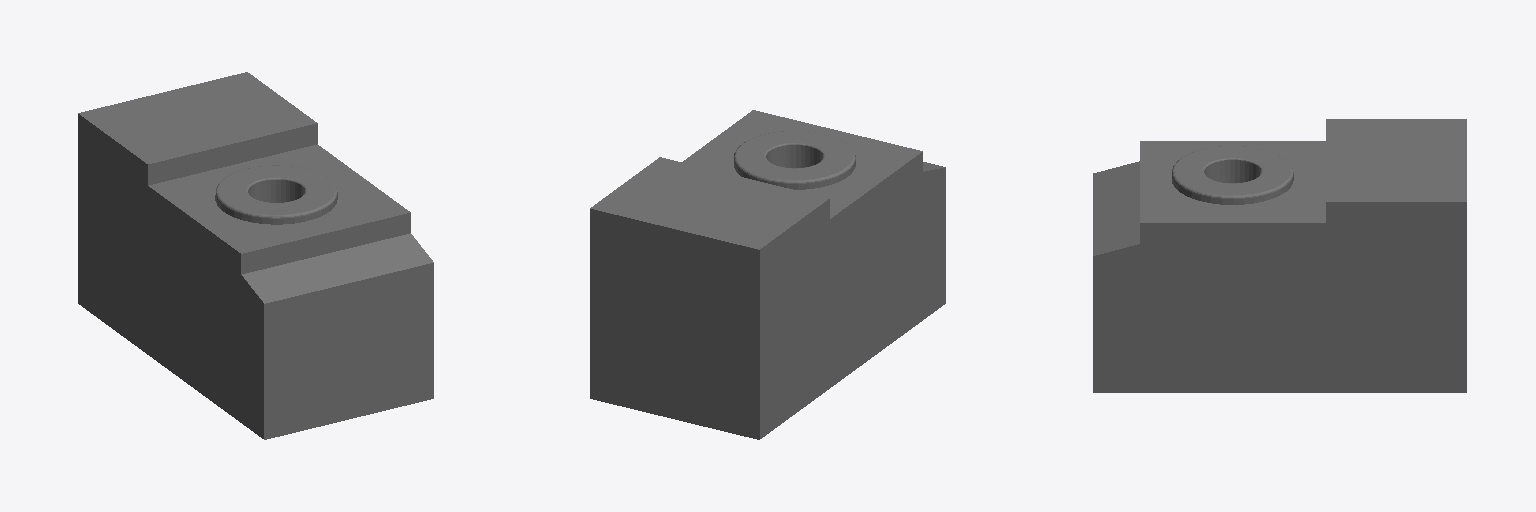
The model's file is module_execute.obj.
3 renders of one model, left to right at view 1: azimuth 30°, elevation 25°; view 2: azimuth 150°, elevation 25°; view 3: azimuth 270°, elevation 25°, orthographic.
Visible parts, largest first — view 1: module_execute; view 2: module_execute; view 3: module_execute.
Part boxes in pixels (left/top/right/bottom): module_execute: left=78, top=72, right=433, bottom=439; module_execute: left=590, top=110, right=945, bottom=439; module_execute: left=1093, top=119, right=1466, bottom=392.
Bounding box in the file's own units: 0.5248 × 0.5623 × 1.